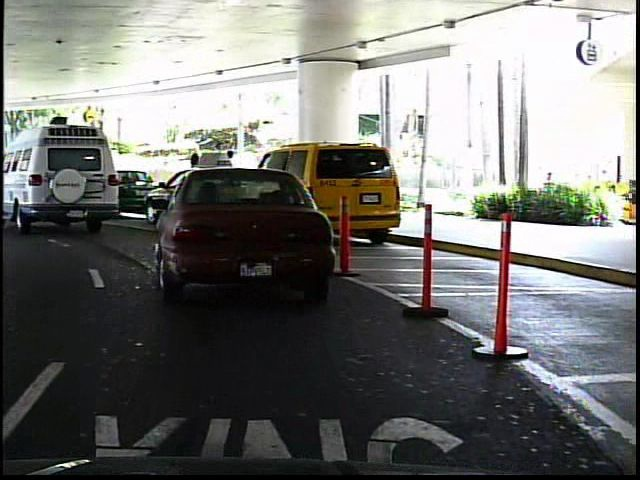person: (220, 146, 245, 211), (183, 147, 208, 210), (58, 155, 80, 198), (4, 158, 22, 198)
